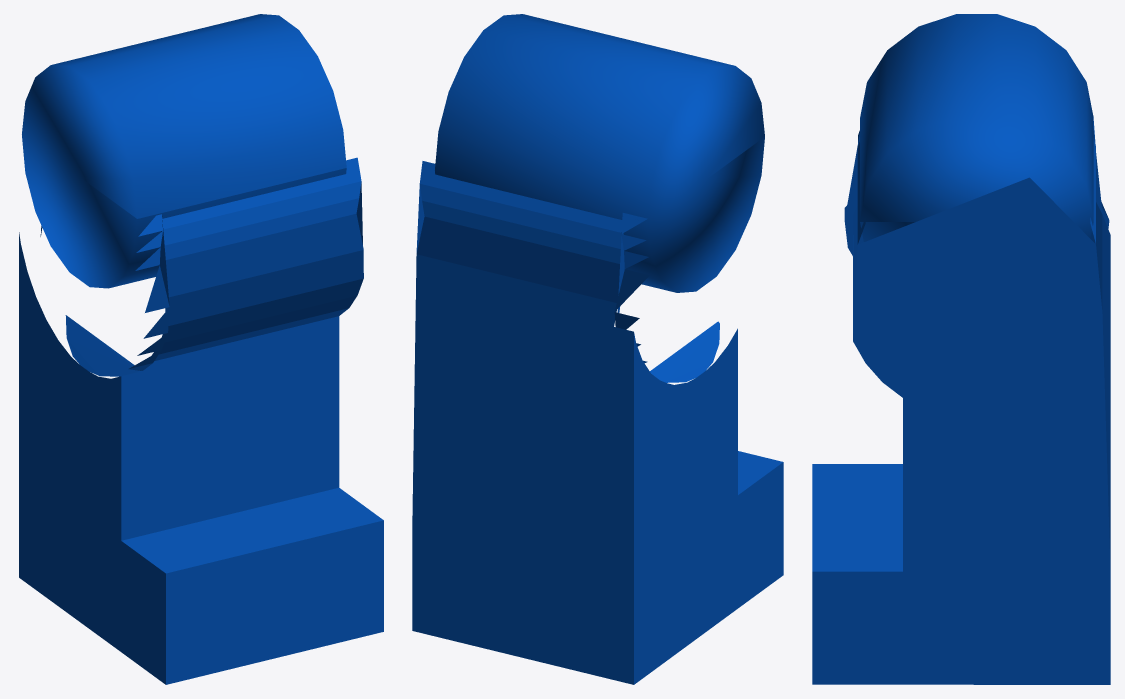
Rendered from legR.glb.
3 views of the same model, side by side, from view 1: azimuth 30°, elevation 25°; view 2: azimuth 150°, elevation 25°; view 3: azimuth 270°, elevation 25° (orthographic).
Parts seen in each view (by area): view 1: baker_legR; view 2: baker_legR; view 3: baker_legR.
Part boxes in pixels (x1,y1,x2,y2): baker_legR: (19, 14, 383, 684); baker_legR: (412, 14, 783, 684); baker_legR: (812, 14, 1110, 684).
Size of the model in its own units: 0.3056 by 0.7237 by 0.3488.
